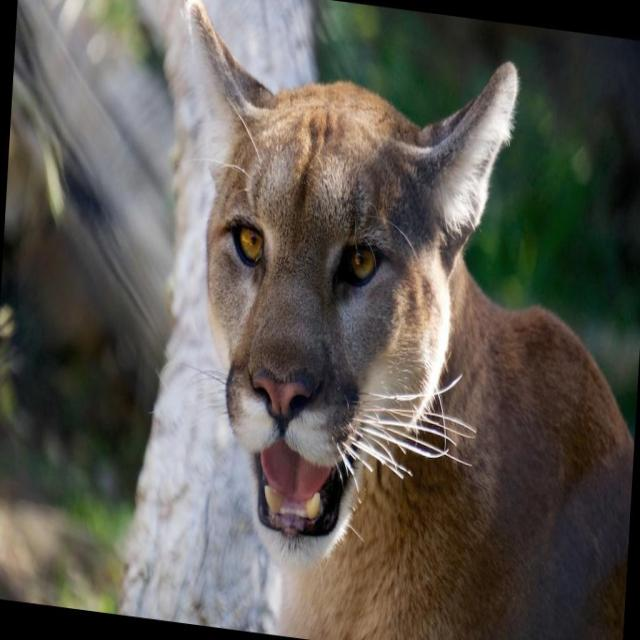Lion: (138, 0, 640, 639)
